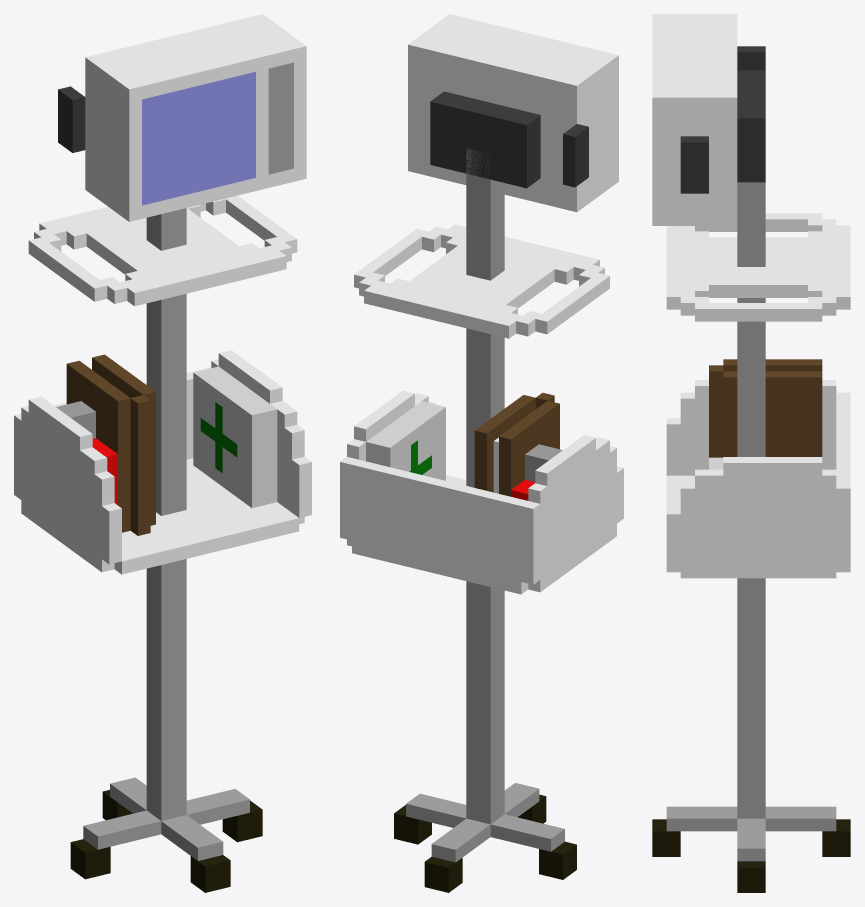
File: Operating room Equip1.fbx
The picture shows the model from 3 angles, left to right: view 1: azimuth 30°, elevation 25°; view 2: azimuth 150°, elevation 25°; view 3: azimuth 270°, elevation 25°; orthographic projection. The views are drawn at different scales.
Visible parts, largest first — view 1: Operating room Equip1.001, Operating room Equip1; view 2: Operating room Equip1.001, Operating room Equip1; view 3: Operating room Equip1.001, Operating room Equip1.
Part boxes in pixels (box(x1,y1,x2,y2)): Operating room Equip1.001: box(14, 195, 311, 892); Operating room Equip1: box(58, 14, 306, 221); Operating room Equip1.001: box(340, 148, 623, 892); Operating room Equip1: box(408, 14, 618, 212); Operating room Equip1.001: box(652, 182, 850, 892); Operating room Equip1: box(652, 14, 765, 225).
Bounding box in the file's own units: 1.6 × 6.2 × 1.4.
